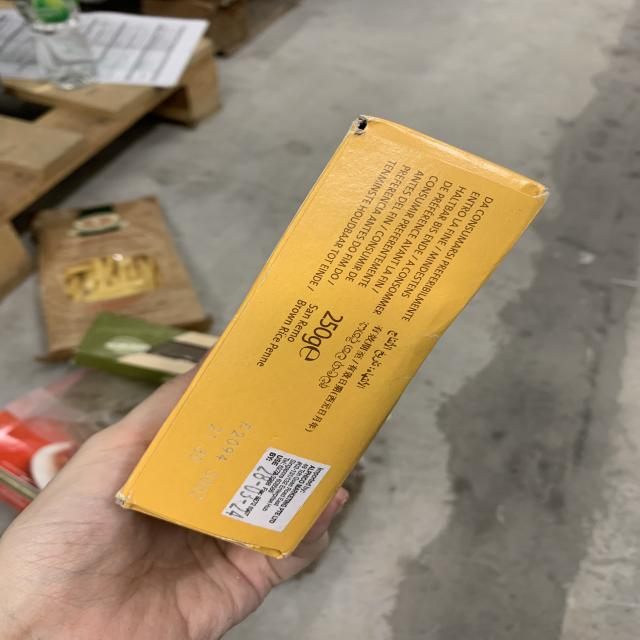object_name: (214, 122, 495, 526)
